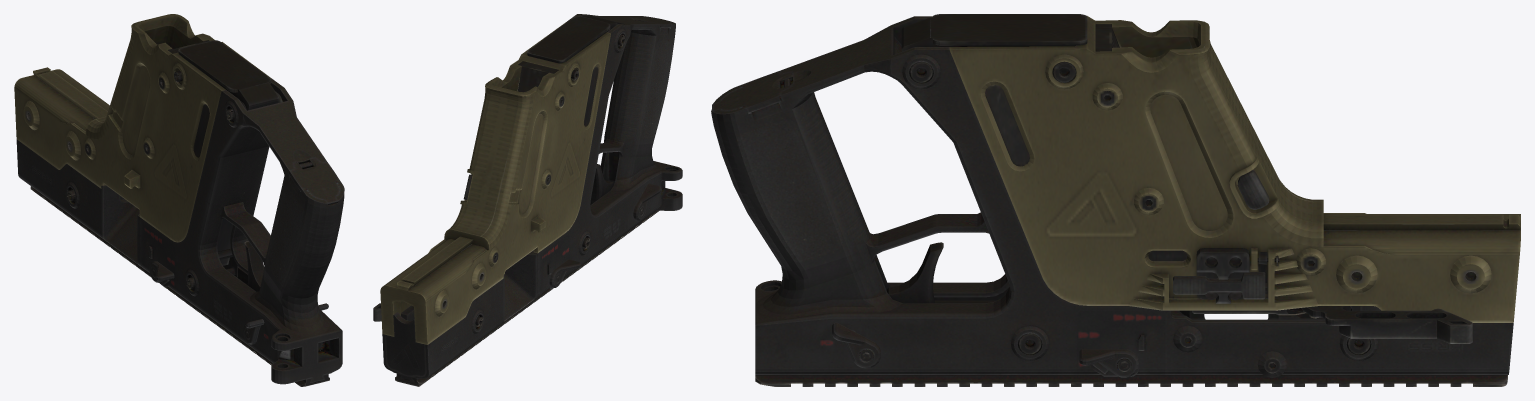
The picture shows the model from 3 angles, left to right: view 1: azimuth 30°, elevation 25°; view 2: azimuth 150°, elevation 25°; view 3: azimuth 270°, elevation 25°; orthographic projection. The views are drawn at different scales.
Visible parts, largest first — view 1: TW_5fc3f2d5900b1d5091531e57_PZ_Import; view 2: TW_5fc3f2d5900b1d5091531e57_PZ_Import; view 3: TW_5fc3f2d5900b1d5091531e57_PZ_Import.
Boxes of the visible parts, x1,y1,x2,y2 form: TW_5fc3f2d5900b1d5091531e57_PZ_Import: [14, 14, 344, 386]; TW_5fc3f2d5900b1d5091531e57_PZ_Import: [373, 14, 682, 386]; TW_5fc3f2d5900b1d5091531e57_PZ_Import: [711, 14, 1520, 386].
Bounding box in the file's own units: 0.0381 × 0.2096 × 0.1004.
Materials: 1 (1 with a texture image).
